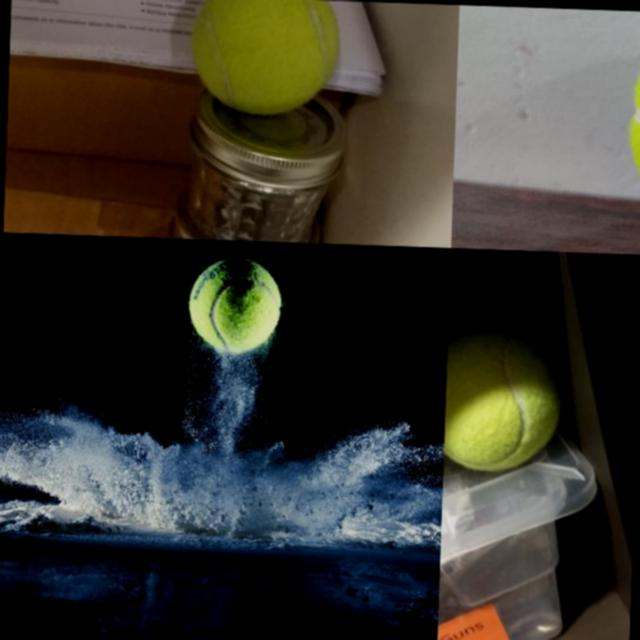tennis-ball: (443, 324, 564, 474), (188, 0, 341, 117), (186, 253, 283, 354)
